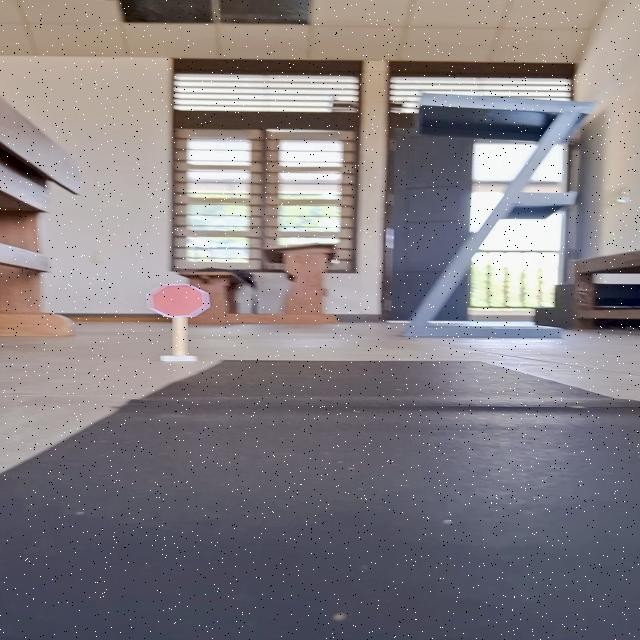Stop: (144, 282, 216, 318)
